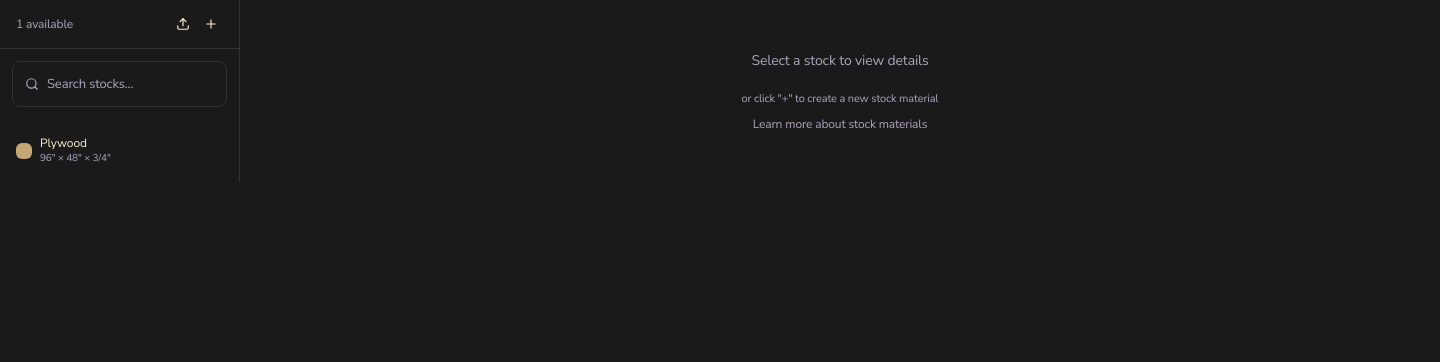
it: StocksTab › stock selection › shows detail panel when stock is selected
Step 1. Click the text "Plywood" → (63, 143), box 40,135 -> 87,151
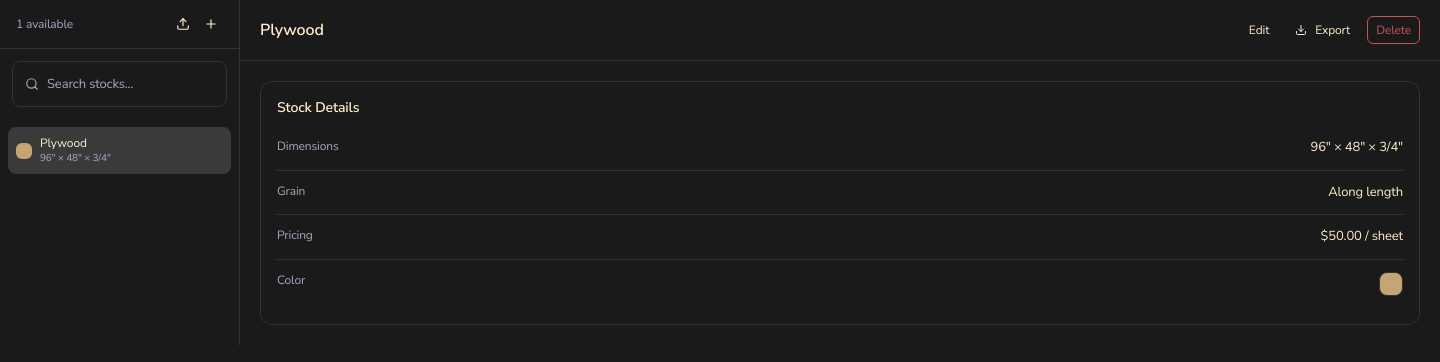
Result: the text "Dimensions" is shown at 277,138 -> 339,154
Result: the text "Grain" is shown at 277,182 -> 305,198
Result: the text "Pricing" is shown at 277,227 -> 313,243
